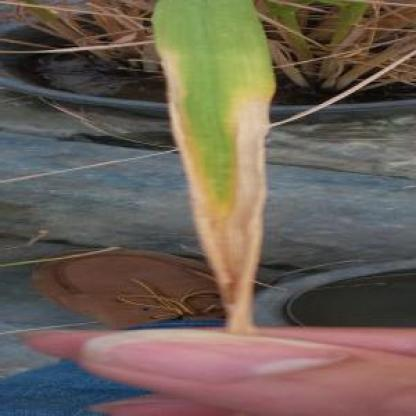Blight: (148, 38, 277, 328)
